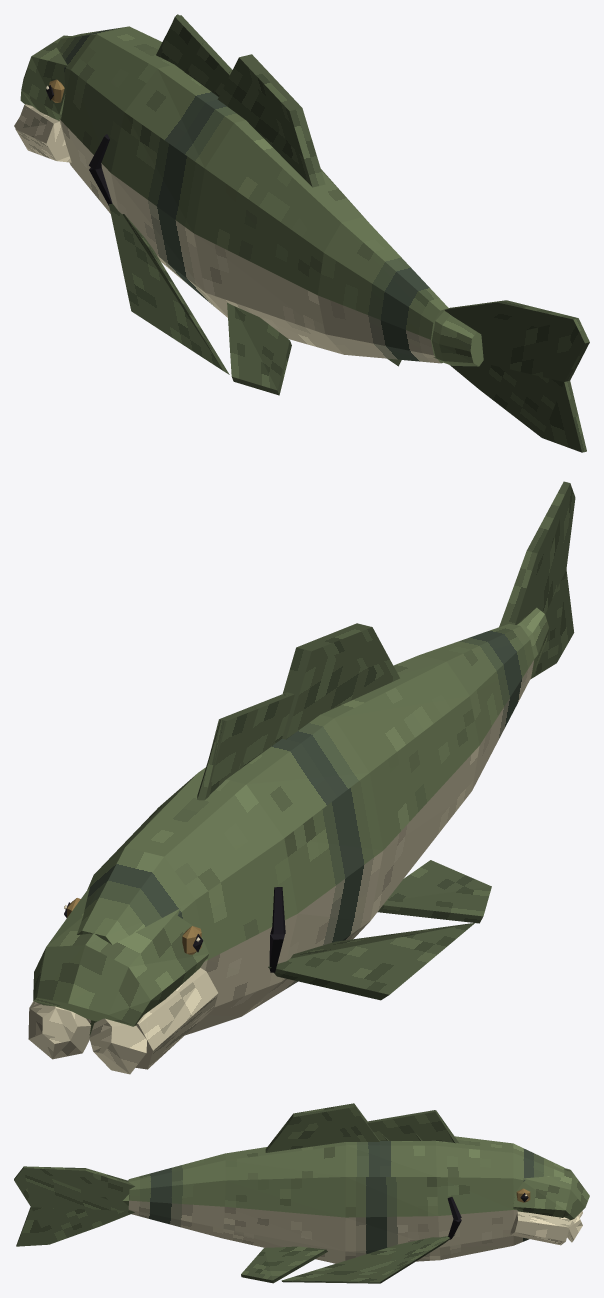
The model's file is mon_fish_lbass.glb.
3 renders of one model, top to bottom at view 1: azimuth 30°, elevation 25°; view 2: azimuth 150°, elevation 25°; view 3: azimuth 270°, elevation 25°, orthographic. The views are drawn at different scales.
Parts seen in each view (by area): view 1: closed_body; view 2: closed_body; view 3: closed_body.
Boxes of the visible parts, x1,y1,x2,y2 form: closed_body: (14,14,589,452); closed_body: (28,481,575,1074); closed_body: (14,1103,589,1283).
Size of the model in its own units: 0.185 by 0.2461 by 0.827.
1 material, 1 textured.
